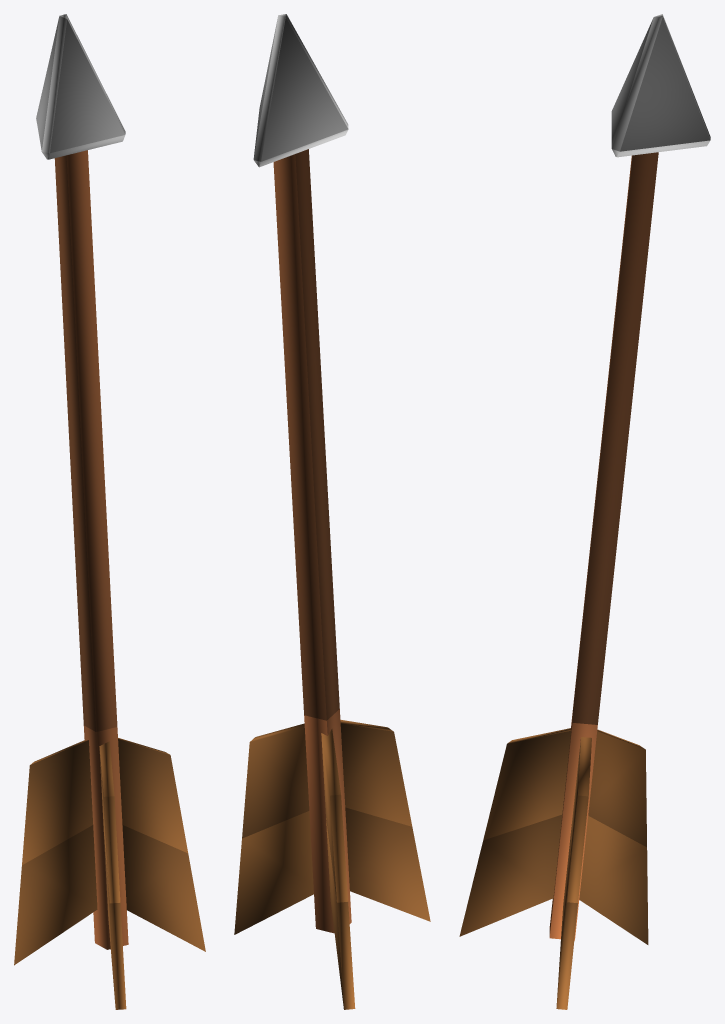
Rendered from Arrow.fbx.
The picture shows the model from 3 angles, left to right: view 1: azimuth 30°, elevation 25°; view 2: azimuth 150°, elevation 25°; view 3: azimuth 270°, elevation 25°; orthographic projection. The views are drawn at different scales.
Parts seen in each view (by area): view 1: SkeletonArcher_Arrow; view 2: SkeletonArcher_Arrow; view 3: SkeletonArcher_Arrow.
Boxes of the visible parts, x1,y1,x2,y2 form: SkeletonArcher_Arrow: (14, 14, 205, 1009); SkeletonArcher_Arrow: (234, 14, 430, 1009); SkeletonArcher_Arrow: (459, 14, 710, 1009).
Size of the model in its own units: 1560 by 9219 by 2197.
